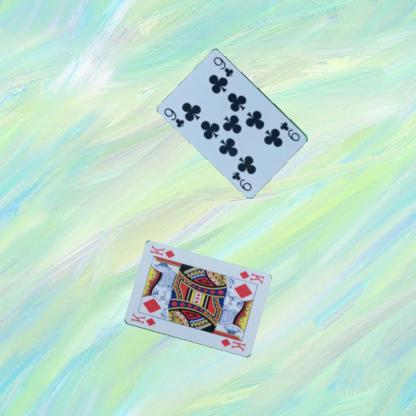9c: (277, 119, 301, 143), (162, 105, 186, 129)
Kd: (128, 310, 157, 328), (236, 268, 266, 285)
